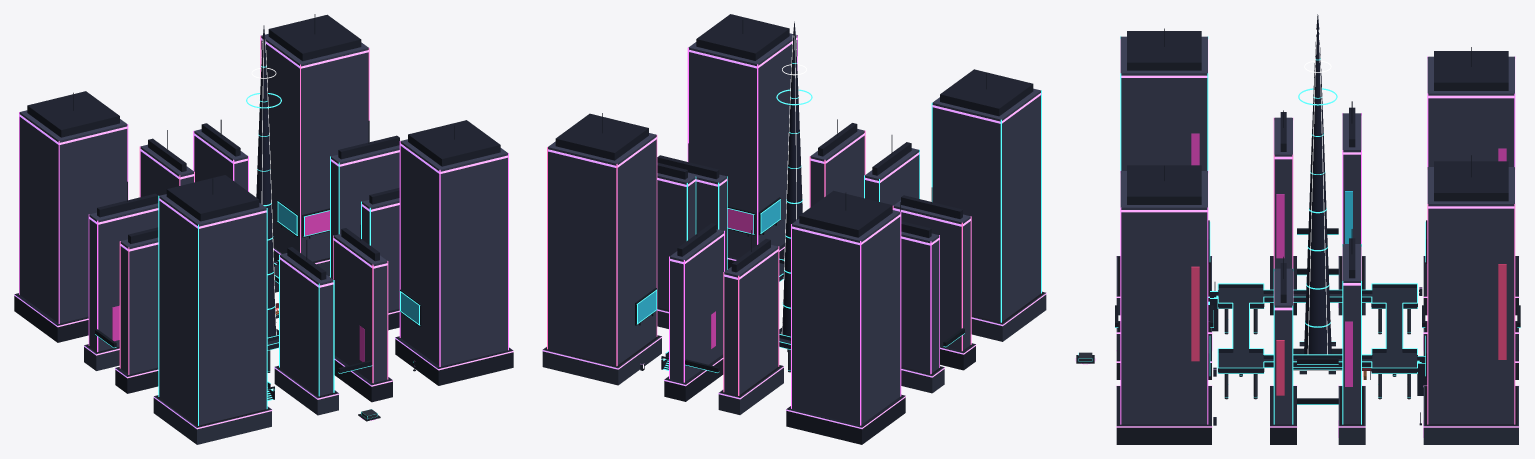
3 renders of one model, left to right at view 1: azimuth 30°, elevation 25°; view 2: azimuth 150°, elevation 25°; view 3: azimuth 270°, elevation 25°, orthographic. The views are drawn at different scales.
Visible parts, largest first — view 1: district_city_cero.lod0; view 2: district_city_cero.lod0; view 3: district_city_cero.lod0.
Part boxes in pixels (left/top/right/bottom): district_city_cero.lod0: left=14, top=14, right=513, bottom=444; district_city_cero.lod0: left=542, top=14, right=1046, bottom=444; district_city_cero.lod0: left=1075, top=14, right=1520, bottom=444.
Bounding box in the file's own units: 97.84 × 92.01 × 107.
